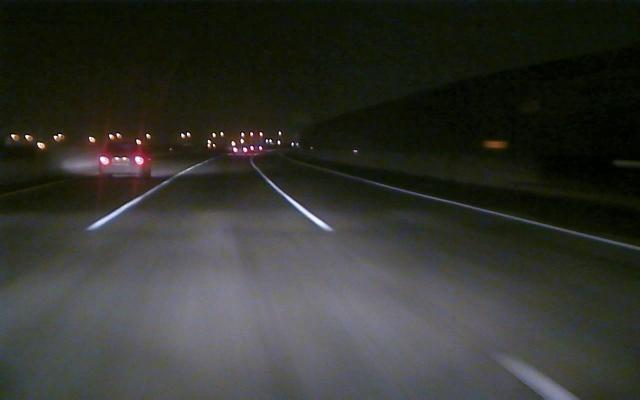lane: (270, 181, 586, 400), (324, 169, 639, 251), (83, 172, 184, 234)
